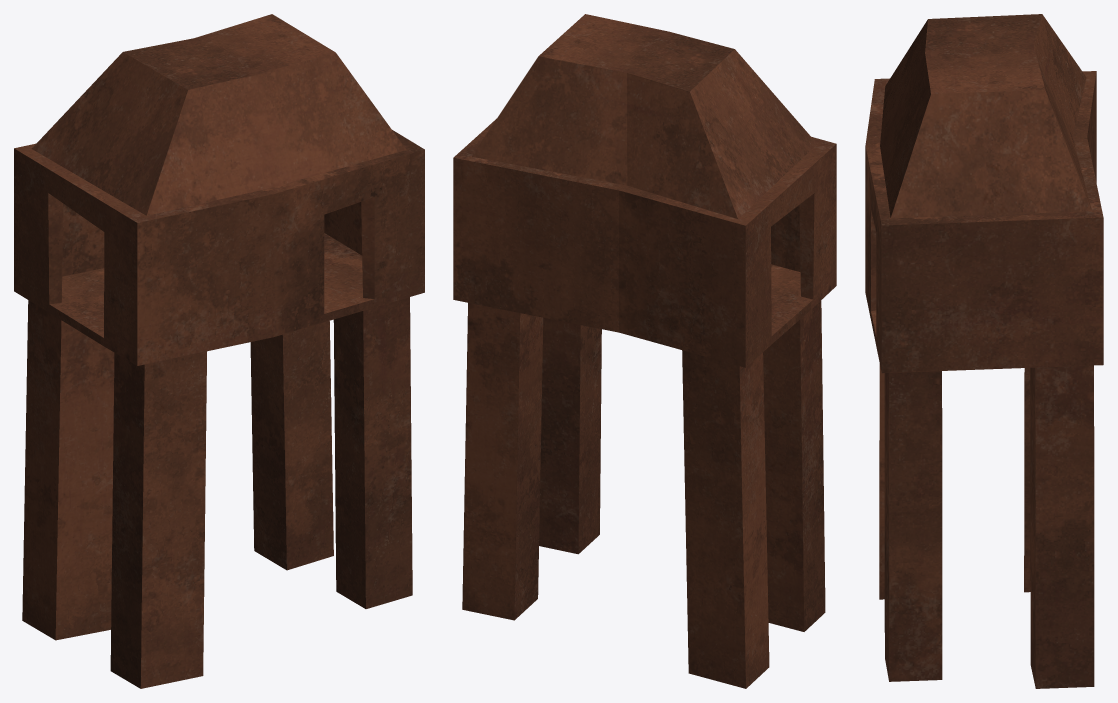
File: Tower5.fbx
The picture shows the model from 3 angles, left to right: view 1: azimuth 30°, elevation 25°; view 2: azimuth 150°, elevation 25°; view 3: azimuth 270°, elevation 25°; orthographic projection. The views are drawn at different scales.
Parts seen in each view (by area): view 1: Plane; view 2: Plane; view 3: Plane.
Boxes of the visible parts, x1=… form: Plane: x1=14, y1=14, x2=424, y2=688; Plane: x1=453, y1=14, x2=836, y2=688; Plane: x1=865, y1=14, x2=1103, y2=688.
Bounding box in the file's own units: 13672 × 24126 × 8897.
1 material, 1 textured.
